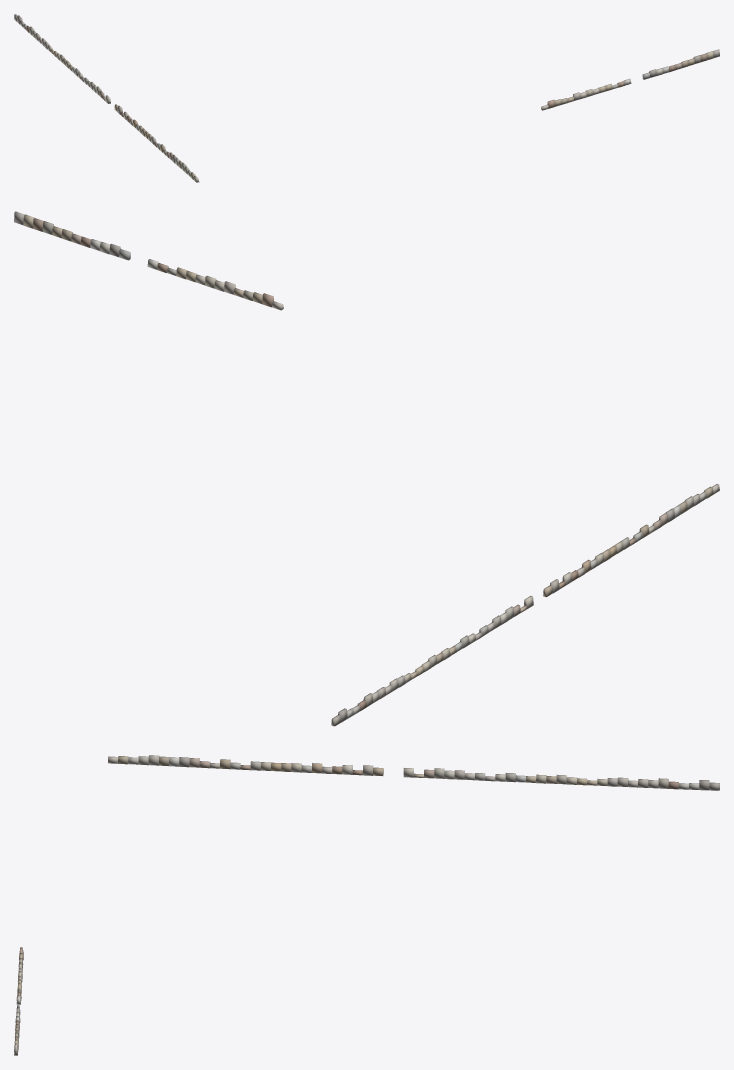
File: farm_6_2_collision.glb
The picture shows the model from 3 angles, top to bottom: view 1: azimuth 30°, elevation 25°; view 2: azimuth 150°, elevation 25°; view 3: azimuth 270°, elevation 25°; orthographic projection. The views are drawn at different scales.
Visible parts, largest first — view 1: geometry_0; view 2: geometry_0; view 3: geometry_0.
Part boxes in pixels (x1=…): geometry_0: x1=14, y1=14, x2=719, y2=182; geometry_0: x1=14, y1=211, x2=719, y2=726; geometry_0: x1=14, y1=755, x2=719, y2=1055.
Size of the model in its own units: 125 by 9.85 by 110.
